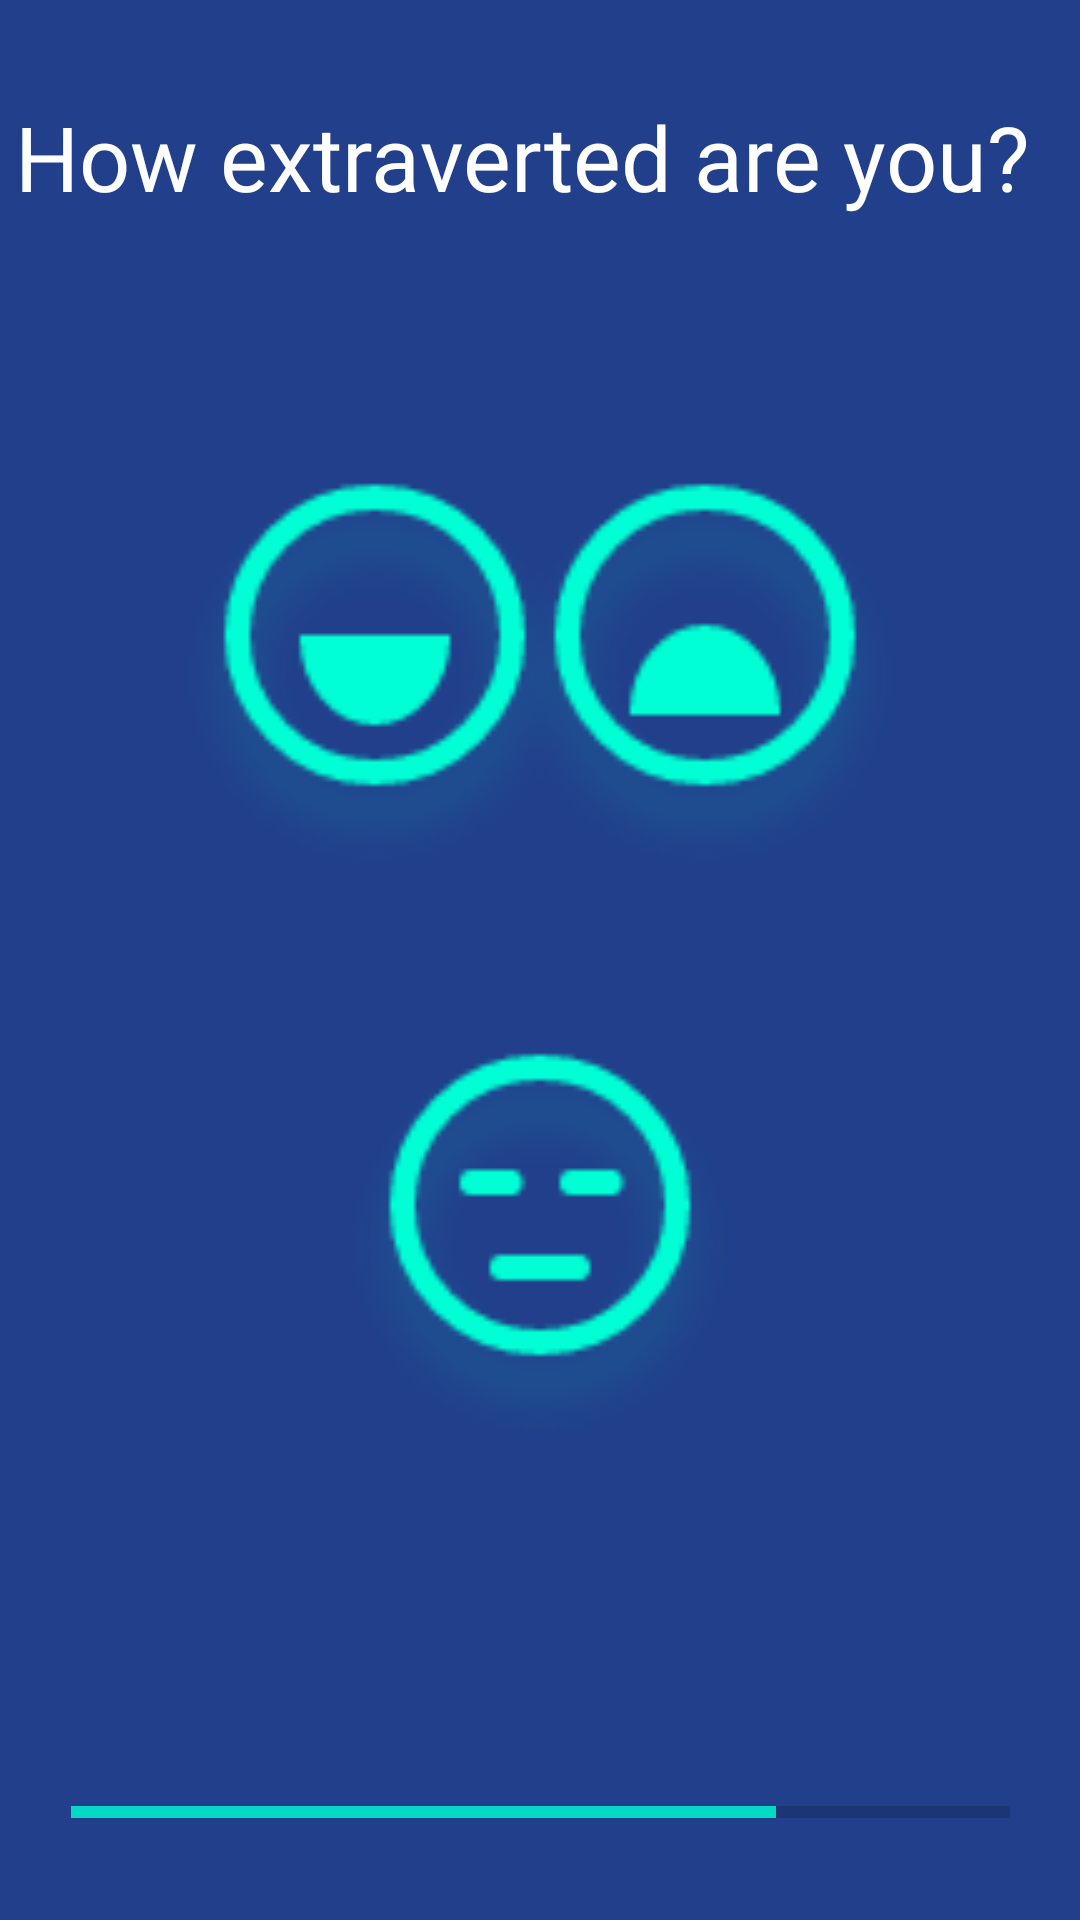

Screen size 1080x1920. Icon name, then its center in pixels as (x,y):
happytwo: (375,635)
mehtwo: (540,1205)
sadtwo: (705,635)
